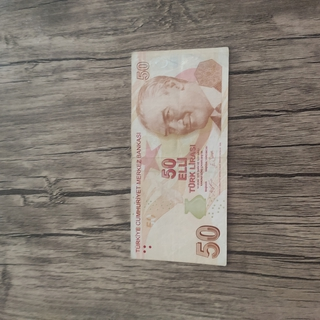50TLFront: (129, 44, 229, 266)
